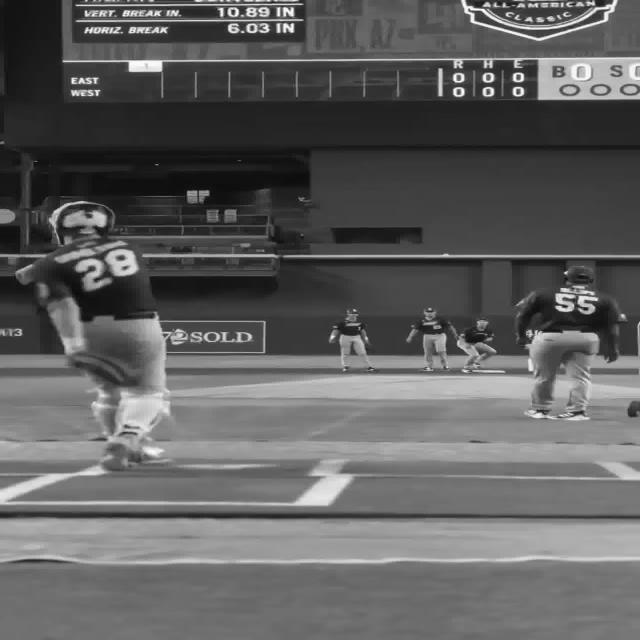base: (457, 369, 508, 374)
baseball: (442, 254, 451, 258)
shoe: (99, 441, 130, 471), (133, 446, 169, 464), (546, 411, 590, 420), (523, 409, 549, 419), (627, 400, 639, 417), (364, 366, 376, 371), (419, 367, 433, 371), (461, 368, 472, 373), (472, 362, 481, 368), (342, 366, 350, 371), (442, 366, 450, 371)
